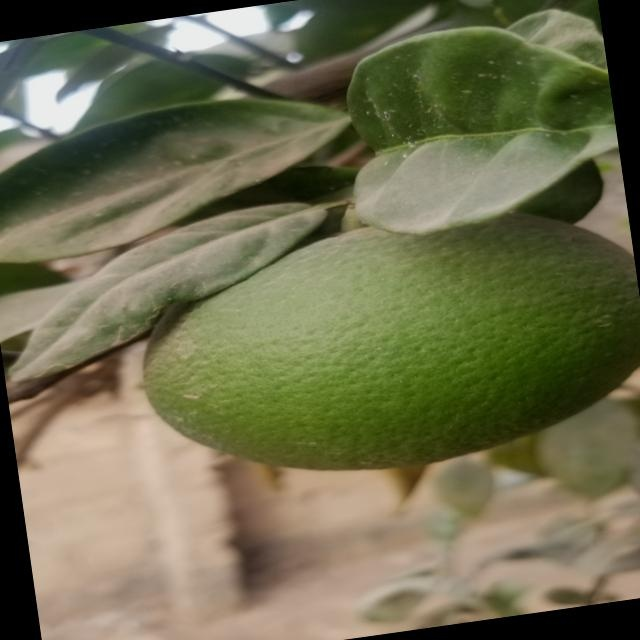agrume: (137, 194, 640, 500)
